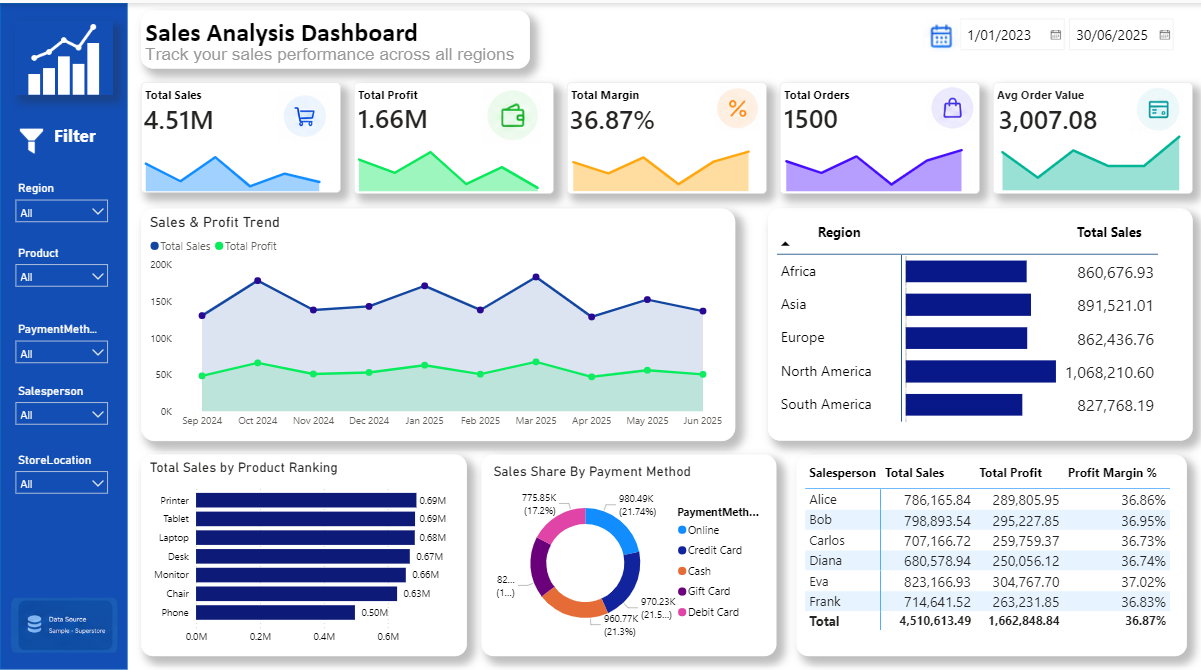

The page's visual inventory and layout, read from the dashboard file:
{"tool":"powerbi","page":{"name":"Page 1","canvas":[1480,820],"ordinal":0},"visuals":[{"type":"textbox","box":[173.3,9.2,478,71],"z":0},{"type":"textbox","box":[173.3,42.4,483.2,38.7],"z":1000},{"type":"shape","box":[0,0,156.9,819.6],"z":2000},{"type":"shape","box":[173.3,97.7,245,135],"z":3000},{"type":"shape","box":[435,97.7,245.3,136.5],"z":4000},{"type":"shape","box":[696.9,97.7,245.3,136.5],"z":5000},{"type":"shape","box":[958.9,97.7,245.3,136.5],"z":6000},{"type":"shape","box":[1220.8,97.7,245.3,136.5],"z":7000},{"type":"textbox","box":[173.3,97.7,107,29.5],"z":8000},{"type":"textbox","box":[435.2,97.7,107,42.4],"z":9000},{"type":"textbox","box":[697.1,97.7,103.3,29.5],"z":10000},{"type":"textbox","box":[958.9,97.7,151.2,42.4],"z":11000},{"type":"textbox","box":[1220.8,97.7,149.4,29.5],"z":12000},{"type":"cardVisual","fields":{"Data":["Measure.Total Sales"]},"box":[147.5,98.4,149.9,86.6],"z":13000},{"type":"cardVisual","fields":{"Data":["Measure.Profit"]},"box":[412.2,96,161.6,86.6],"z":14000},{"type":"cardVisual","fields":{"Data":["Measure.Profit Margin %"]},"box":[672.1,98.4,180.3,86.6],"z":15000},{"type":"cardVisual","fields":{"Data":["Measure.Total Orders"]},"box":[934.4,96,166.3,86.6],"z":16000},{"type":"cardVisual","fields":{"Data":["Measure.Average Order Value"]},"box":[1199,98.4,194.4,86.6],"z":17000},{"type":"image","box":[341.2,105.1,70.1,68.2],"z":18000},{"type":"image","box":[592,105.1,79.3,70.1],"z":19000},{"type":"image","box":[877.8,94.1,59,70.1],"z":20000},{"type":"image","box":[1139.7,94.1,60.9,70.1],"z":21000},{"type":"image","box":[1381.2,101.4,81.1,59],"z":22000},{"type":"areaChart","fields":{"Y":["Measure.Total Sales"],"Category":["Calendar.Month Year"]},"box":[156.9,163.9,257.6,72.6],"z":23000},{"type":"areaChart","fields":{"Category":["Calendar.Month Year"],"Y":["Sum(Sales.Total Profit)"]},"box":[419.2,163.9,264.6,72.6],"z":24000},{"type":"areaChart","fields":{"Y":["Measure.Profit Margin %"],"Category":["Calendar.Month Year"]},"box":[681.5,166.3,259.9,70.3],"z":25000},{"type":"areaChart","fields":{"Y":["Measure.Profit Margin %"],"Category":["Calendar.Month Year"]},"box":[943.7,163.9,259.9,72.6],"z":26000},{"type":"areaChart","fields":{"Category":["Calendar.Month Year"],"Y":["Measure.Average Order Value"]},"box":[1208.9,138.9,262.2,96.7],"z":27000},{"type":"areaChart","title":"Sales & Profit Trend","fields":{"Category":["Calendar.Month Year"],"Y":["Measure.Total Sales","Measure.Total Profit"]},"box":[173.3,252.6,761.6,285.8],"z":28000},{"type":"clusteredBarChart","title":"Total Sales by Product Ranking","fields":{"Category":["Sales.Product"],"Y":["Measure.Total Sales"]},"box":[173.3,555,400.4,248.2],"z":29000},{"type":"donutChart","title":"Sales Share By Payment Method","fields":{"Y":["Measure.Total Sales"],"Category":["Sales.PaymentMethod"]},"box":[592.5,555,363,248.2],"z":30000},{"type":"pivotTable","fields":{"Values":["Measure.Total Sales","Measure.Total Profit","Measure.Profit Margin %"],"Rows":["Sales.Salesperson"]},"box":[978.9,555,480.1,248.2],"z":31000},{"type":"slicer","fields":{"Values":["Sales.Region"]},"box":[9.4,213.1,133.5,79.6],"z":32000},{"type":"slicer","fields":{"Values":["Sales.Product"]},"box":[9.4,292.7,133.5,82],"z":33000},{"type":"slicer","fields":{"Values":["Sales.PaymentMethod"]},"box":[9.4,386.4,133.5,82],"z":34000},{"type":"slicer","fields":{"Values":["Sales.Salesperson"]},"box":[9.4,463.7,133.5,82],"z":35000},{"type":"slicer","fields":{"Values":["Sales.StoreLocation"]},"box":[9.4,548,133.5,82],"z":36000},{"type":"textbox","box":[53.9,142.8,77.3,58.5],"z":37000},{"type":"image","box":[11.1,153.1,55.3,33.2],"z":38000},{"type":"image","box":[18.4,22.1,119.9,90.4],"z":39000},{"type":"slicer","fields":{"Values":["Calendar.Date"]},"box":[1166.7,10,298.3,51.7],"z":40000},{"type":"image","box":[1133.3,16.7,46.7,46.7],"z":41000},{"type":"image","box":[12.9,726.6,132.8,77.5],"z":42000},{"type":"pivotTable","fields":{"Values":["Measure.Sales Bar","Measure.Total Sales"],"Rows":["Sales.Region"]},"box":[958.9,252.6,507.1,285.8],"z":43000}]}

Visuals, with their boxes in screenshot pixels (x1, y1, x2, y2), scaled from the page's 1480x820 canvas onto the 1201x670 screenshot:
textbox: <box>141,8,529,66</box>
textbox: <box>141,35,533,66</box>
shape: <box>0,0,127,669</box>
shape: <box>141,80,339,190</box>
shape: <box>353,80,552,191</box>
shape: <box>566,80,765,191</box>
shape: <box>778,80,977,191</box>
shape: <box>991,80,1190,191</box>
textbox: <box>141,80,227,104</box>
textbox: <box>353,80,440,114</box>
textbox: <box>566,80,650,104</box>
textbox: <box>778,80,901,114</box>
textbox: <box>991,80,1112,104</box>
cardVisual - Measure.Total Sales: <box>120,80,241,151</box>
cardVisual - Measure.Profit: <box>334,78,466,149</box>
cardVisual - Measure.Profit Margin %: <box>545,80,692,151</box>
cardVisual - Measure.Total Orders: <box>758,78,893,149</box>
cardVisual - Measure.Average Order Value: <box>973,80,1131,151</box>
image: <box>277,86,334,142</box>
image: <box>480,86,545,143</box>
image: <box>712,77,760,134</box>
image: <box>925,77,974,134</box>
image: <box>1121,83,1187,131</box>
areaChart - Measure.Total Sales x Calendar.Month Year: <box>127,134,336,193</box>
areaChart - Calendar.Month Year x Sum(Sales.Total Profit): <box>340,134,555,193</box>
areaChart - Measure.Profit Margin % x Calendar.Month Year: <box>553,136,764,193</box>
areaChart - Measure.Profit Margin % x Calendar.Month Year: <box>766,134,977,193</box>
areaChart - Calendar.Month Year x Measure.Average Order Value: <box>981,113,1194,193</box>
"Sales & Profit Trend" areaChart: <box>141,206,759,440</box>
"Total Sales by Product Ranking" clusteredBarChart: <box>141,453,466,656</box>
"Sales Share By Payment Method" donutChart: <box>481,453,775,656</box>
pivotTable - Measure.Total Sales x Measure.Total Profit: <box>794,453,1184,656</box>
slicer - Sales.Region: <box>8,174,116,239</box>
slicer - Sales.Product: <box>8,239,116,306</box>
slicer - Sales.PaymentMethod: <box>8,316,116,383</box>
slicer - Sales.Salesperson: <box>8,379,116,446</box>
slicer - Sales.StoreLocation: <box>8,448,116,515</box>
textbox: <box>44,117,106,164</box>
image: <box>9,125,54,152</box>
image: <box>15,18,112,92</box>
slicer - Calendar.Date: <box>947,8,1189,50</box>
image: <box>920,14,958,52</box>
image: <box>10,594,118,657</box>
pivotTable - Measure.Sales Bar x Measure.Total Sales: <box>778,206,1190,440</box>
